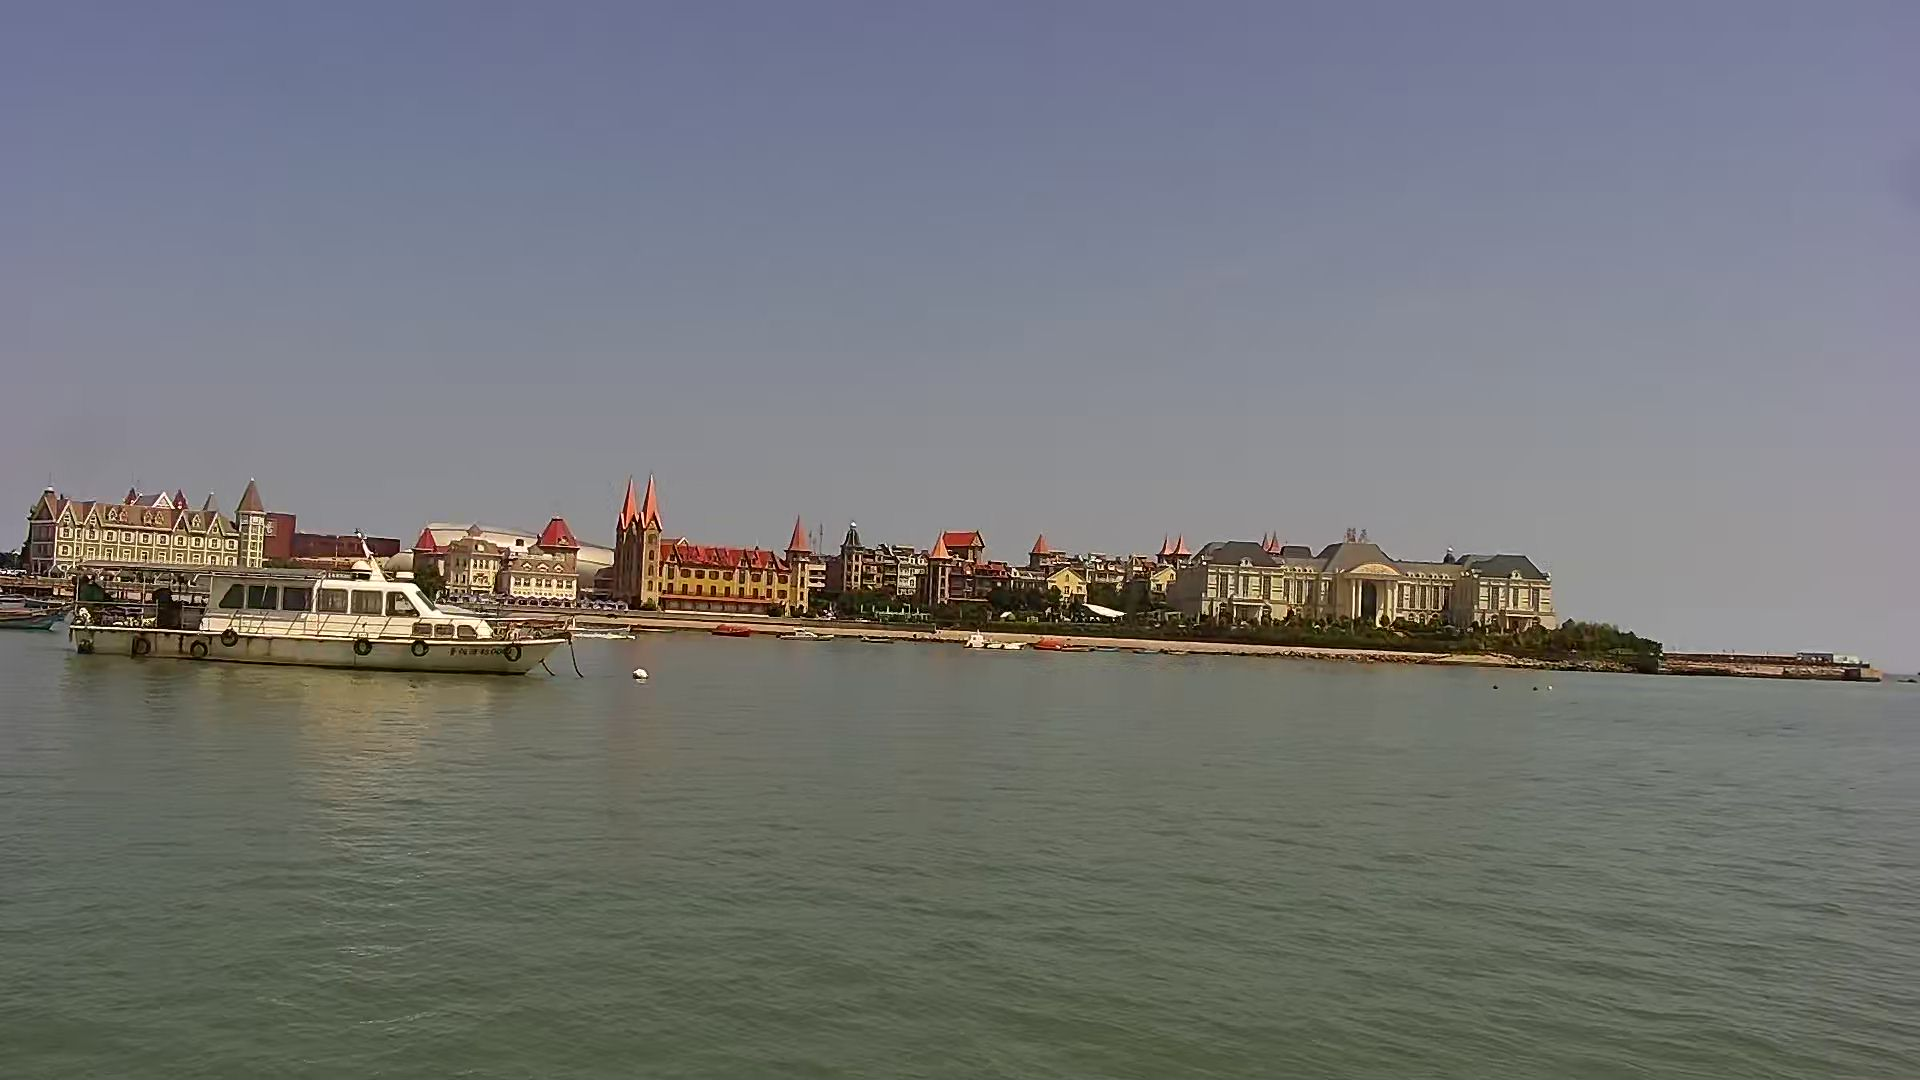ball: (625, 659, 655, 682)
boat: (1, 597, 69, 634)
ship: (66, 549, 578, 680)
